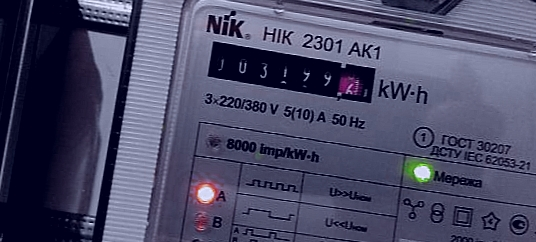0: (212, 49, 227, 71), (235, 52, 250, 73)
1: (279, 57, 291, 77)
3: (257, 58, 270, 78)
6: (344, 78, 356, 95)
9: (320, 65, 334, 86), (300, 61, 313, 82)
screen: (199, 34, 386, 110)
